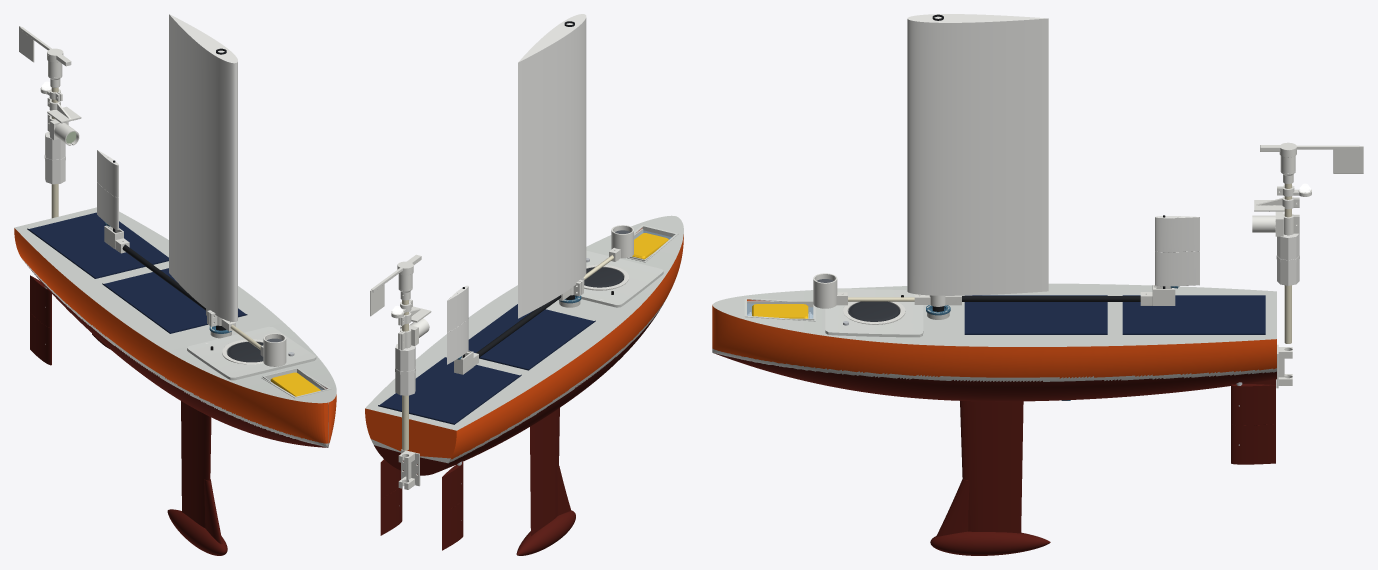
Rendered from drone_boat_revF.glb.
3 views of the same model, side by side, from view 1: azimuth 30°, elevation 25°; view 2: azimuth 150°, elevation 25°; view 3: azimuth 270°, elevation 25° (orthographic). The views are drawn at different scales.
Parts seen in each view (by area): view 1: wing, hull, deck, solar2, solar1, fin, hatch_lid, bulb, radar, P13a_stbd, P13b_stbd, P02 (+9 smaller); view 2: wing, deck, hull, solar2, solar1, transom, fin, hatch_lid, bulb, radar, P13a_stbd, P13b_port (+14 smaller); view 3: wing, hull, deck, fin, solar2, solar1, hatch_lid, bulb, P13a_port, P13b_port, P10b, P10a (+7 smaller).
Part boxes in pixels (x1,y1,x2,y2): wing: (169,14,237,321); hull: (14,228,336,447); deck: (14,207,336,403); solar2: (27,212,168,278); solar1: (102,268,247,333); fin: (181,401,211,527); hatch_lid: (187,326,316,380); bulb: (167,509,227,555); radar: (44,131,65,184); P13a_stbd: (30,275,51,327); P13b_stbd: (30,313,51,365); P02: (19,26,71,66); wing: (518,14,586,318); deck: (365,215,683,430); hull: (437,228,683,472); solar2: (378,357,521,424); solar1: (468,304,595,370); transom: (365,408,456,475); fin: (530,408,559,535); hatch_lid: (581,250,663,307); bulb: (516,510,575,555); radar: (395,344,415,395); P13a_stbd: (442,462,463,513); P13b_port: (380,488,402,535); wing: (907,14,1048,295); hull: (712,299,1276,401); deck: (712,283,1276,346); fin: (960,401,1023,533); solar2: (1122,295,1265,334); solar1: (964,295,1107,334); hatch_lid: (825,288,923,337); bulb: (930,531,1050,555); P13a_port: (1231,384,1275,425); P13b_port: (1231,424,1275,464); P10b: (1155,216,1199,252); P10a: (1155,251,1199,286).
Size of the model in its own units: 0.4 by 1.58 by 1.73.
